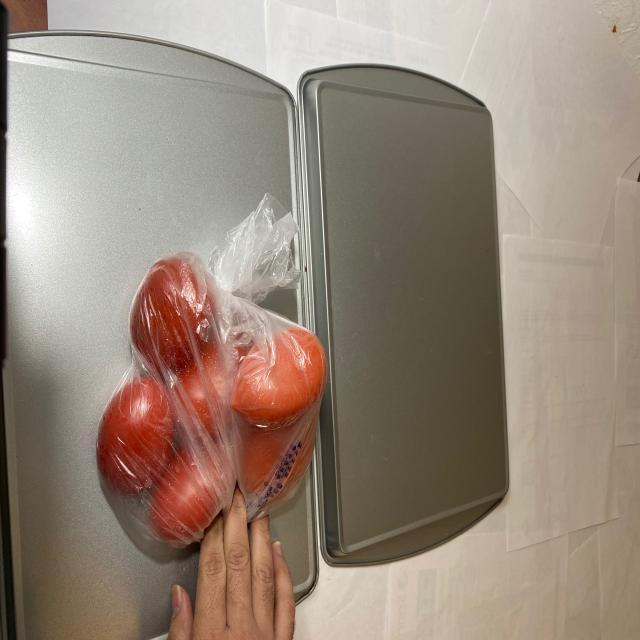tomato: (99, 232, 327, 544)
